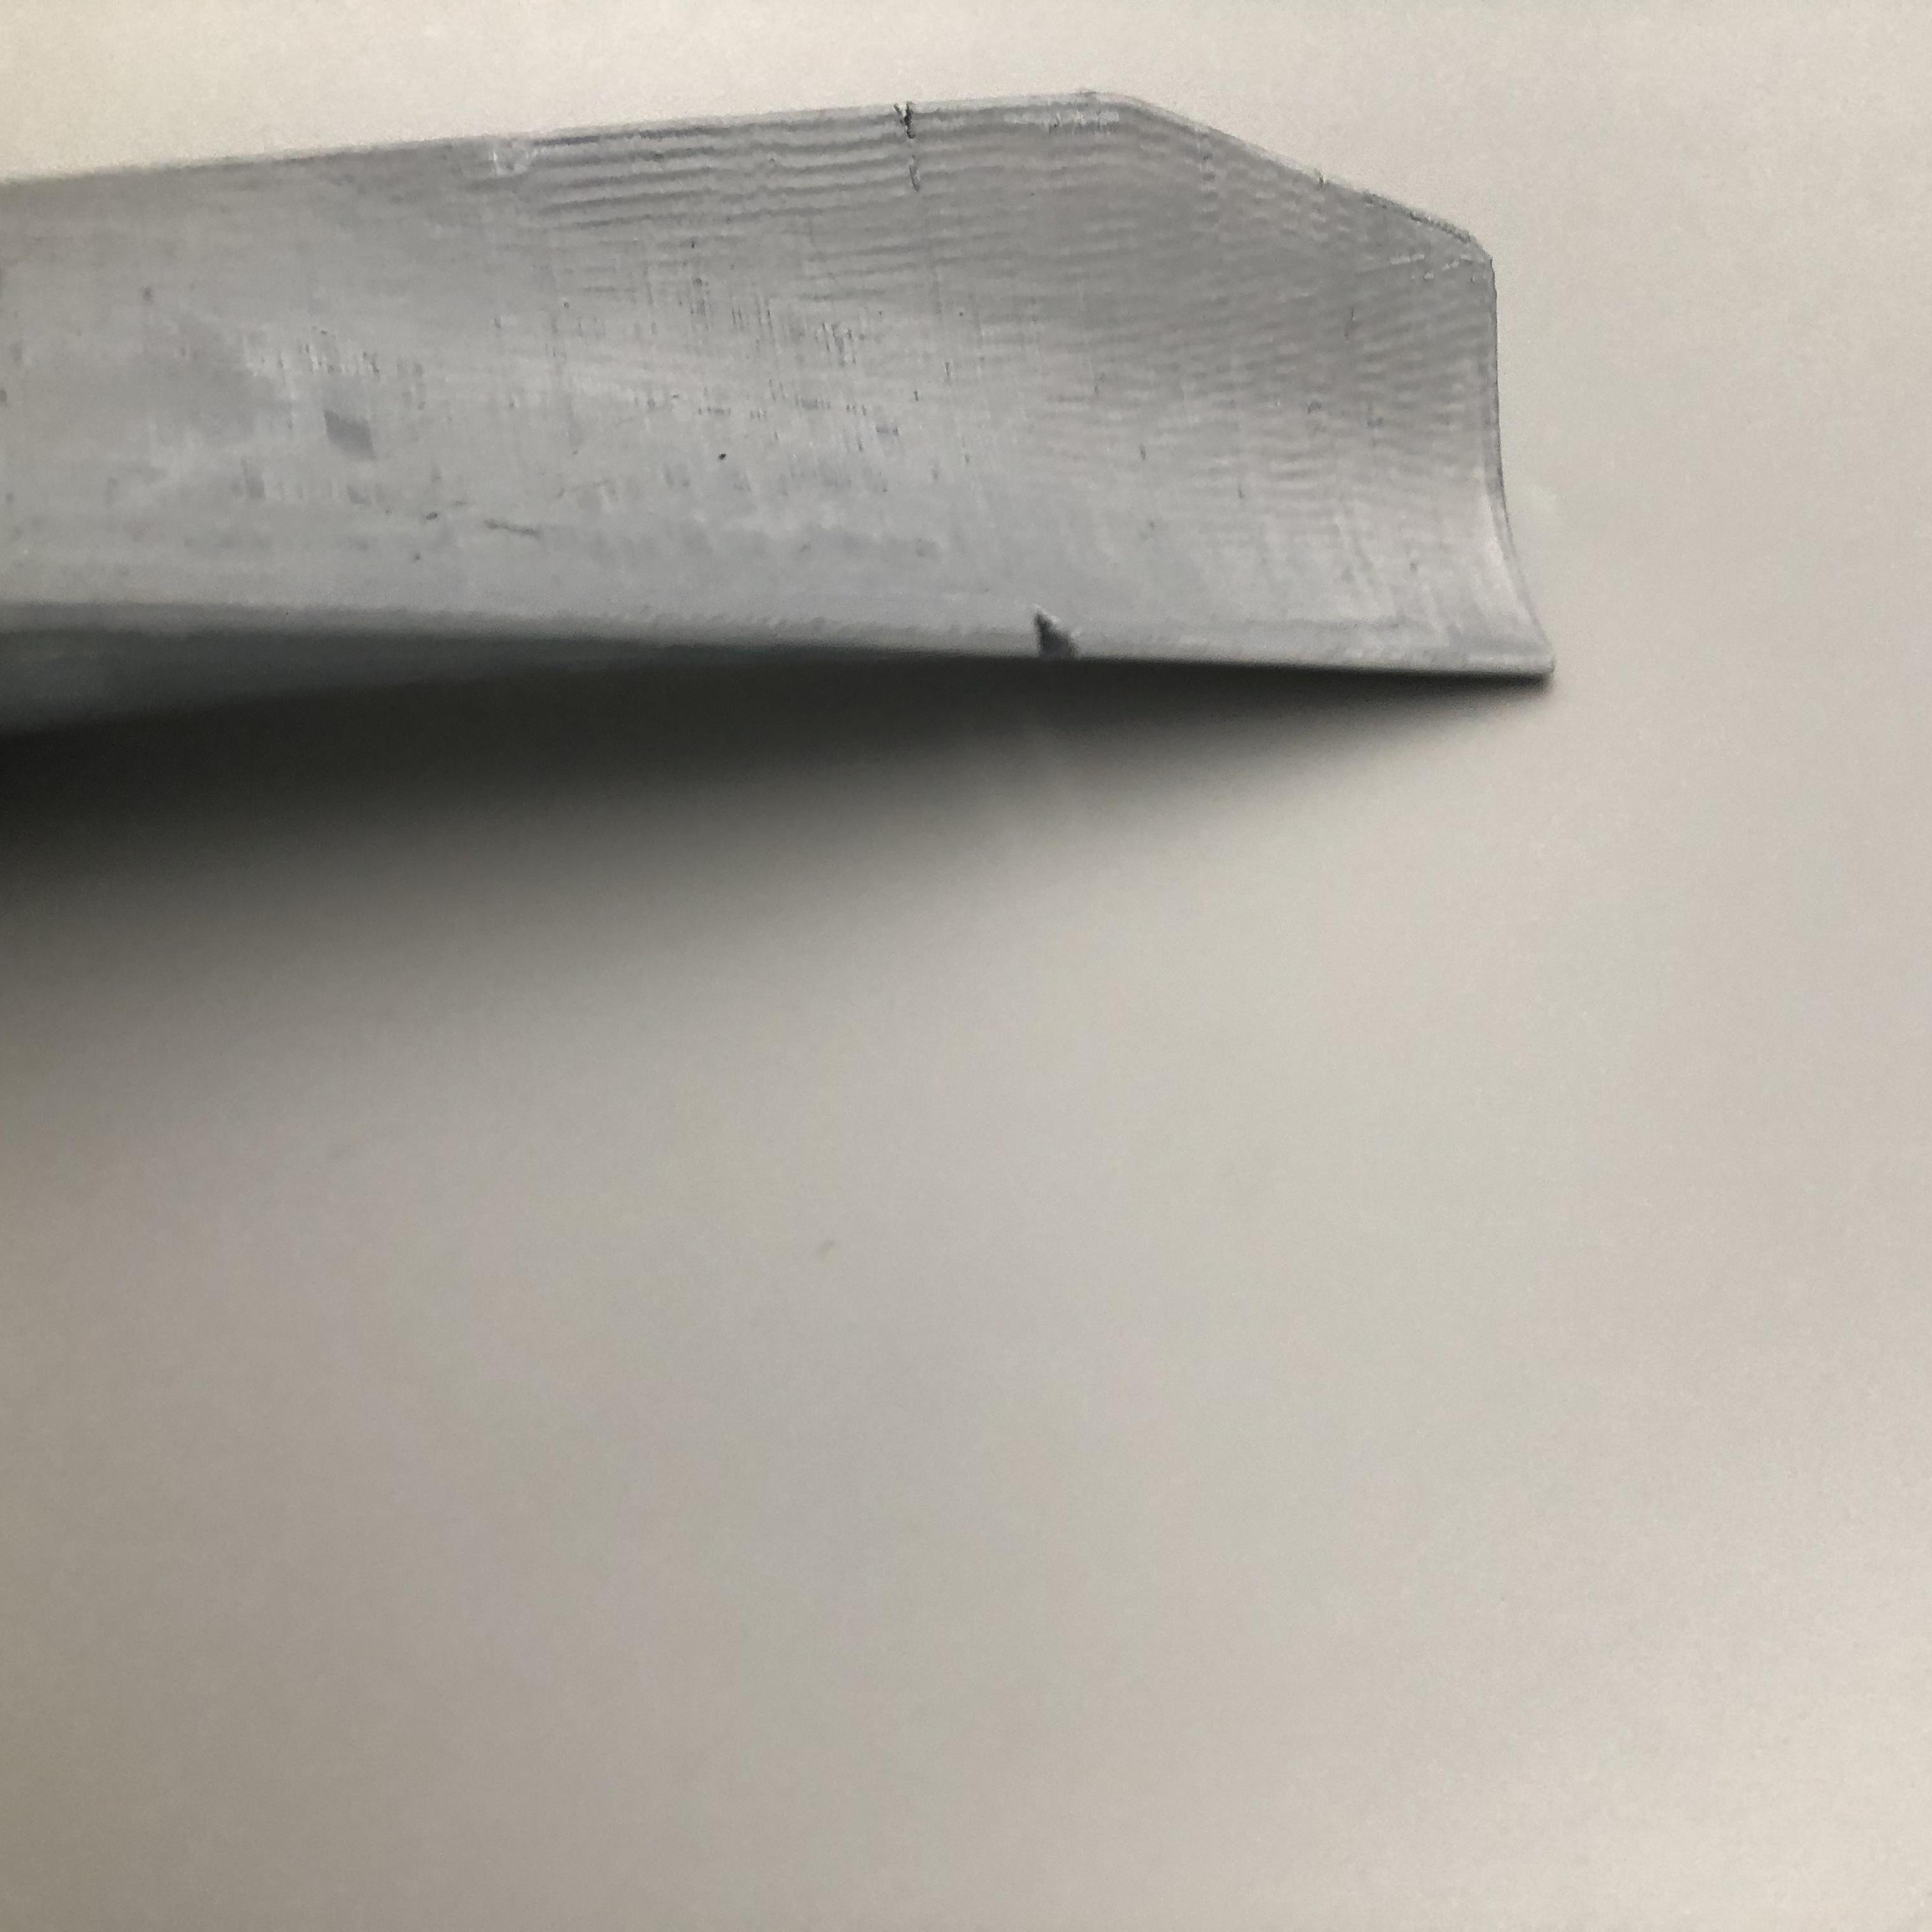groove: (1030, 596, 1100, 665), (874, 101, 931, 136)
